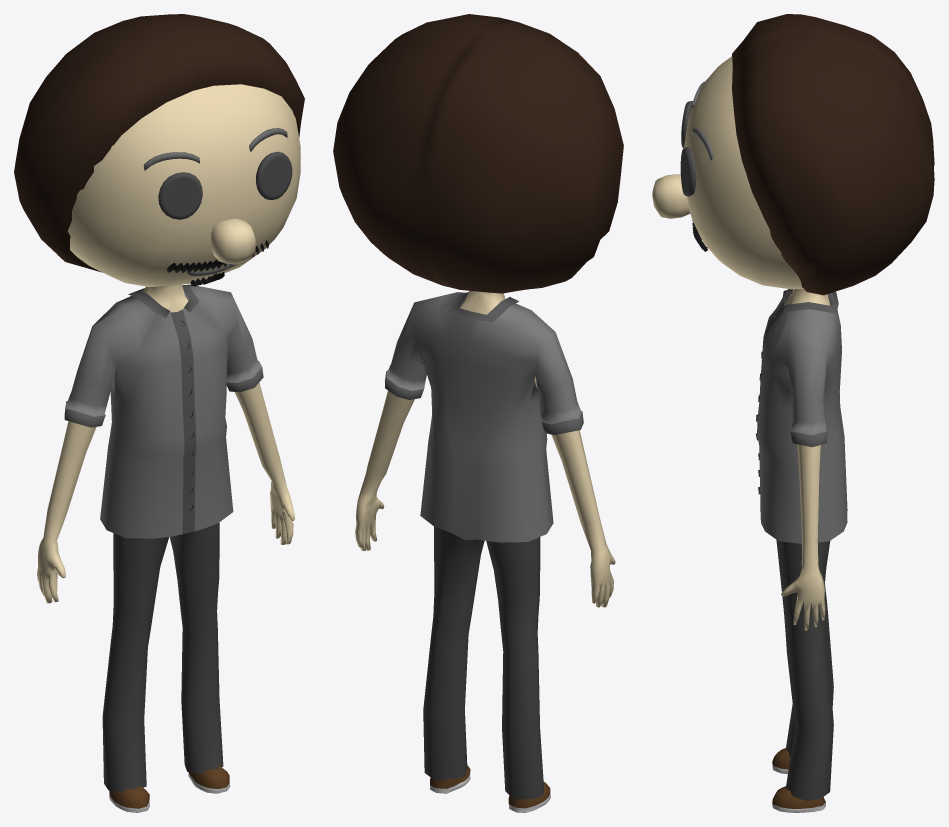
The model's file is dad.fbx.
3 renders of one model, left to right at view 1: azimuth 30°, elevation 25°; view 2: azimuth 150°, elevation 25°; view 3: azimuth 270°, elevation 25°, orthographic.
Visible parts, largest first — view 1: DAD; view 2: DAD; view 3: DAD.
Boxes of the visible parts, x1,y1,x2,y2 form: DAD: [14, 14, 304, 812]; DAD: [333, 14, 623, 812]; DAD: [652, 14, 934, 812].
Bounding box in the file's own units: 97.96 × 274 × 92.76.
